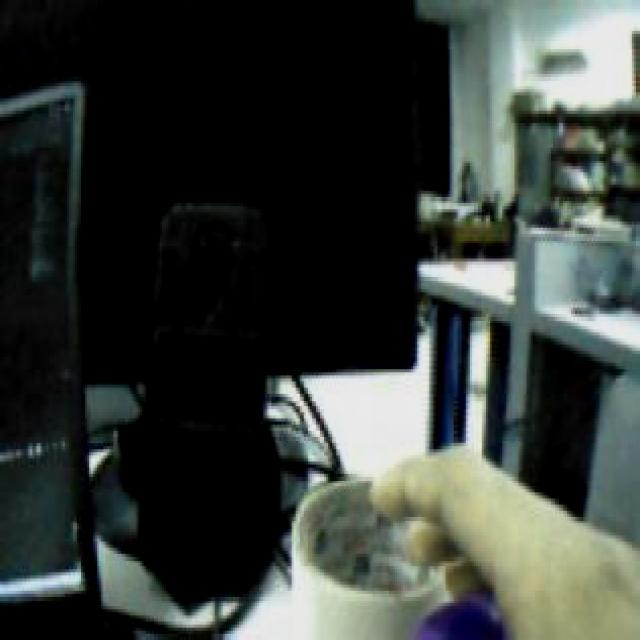BallPurple: (405, 595, 510, 640)
